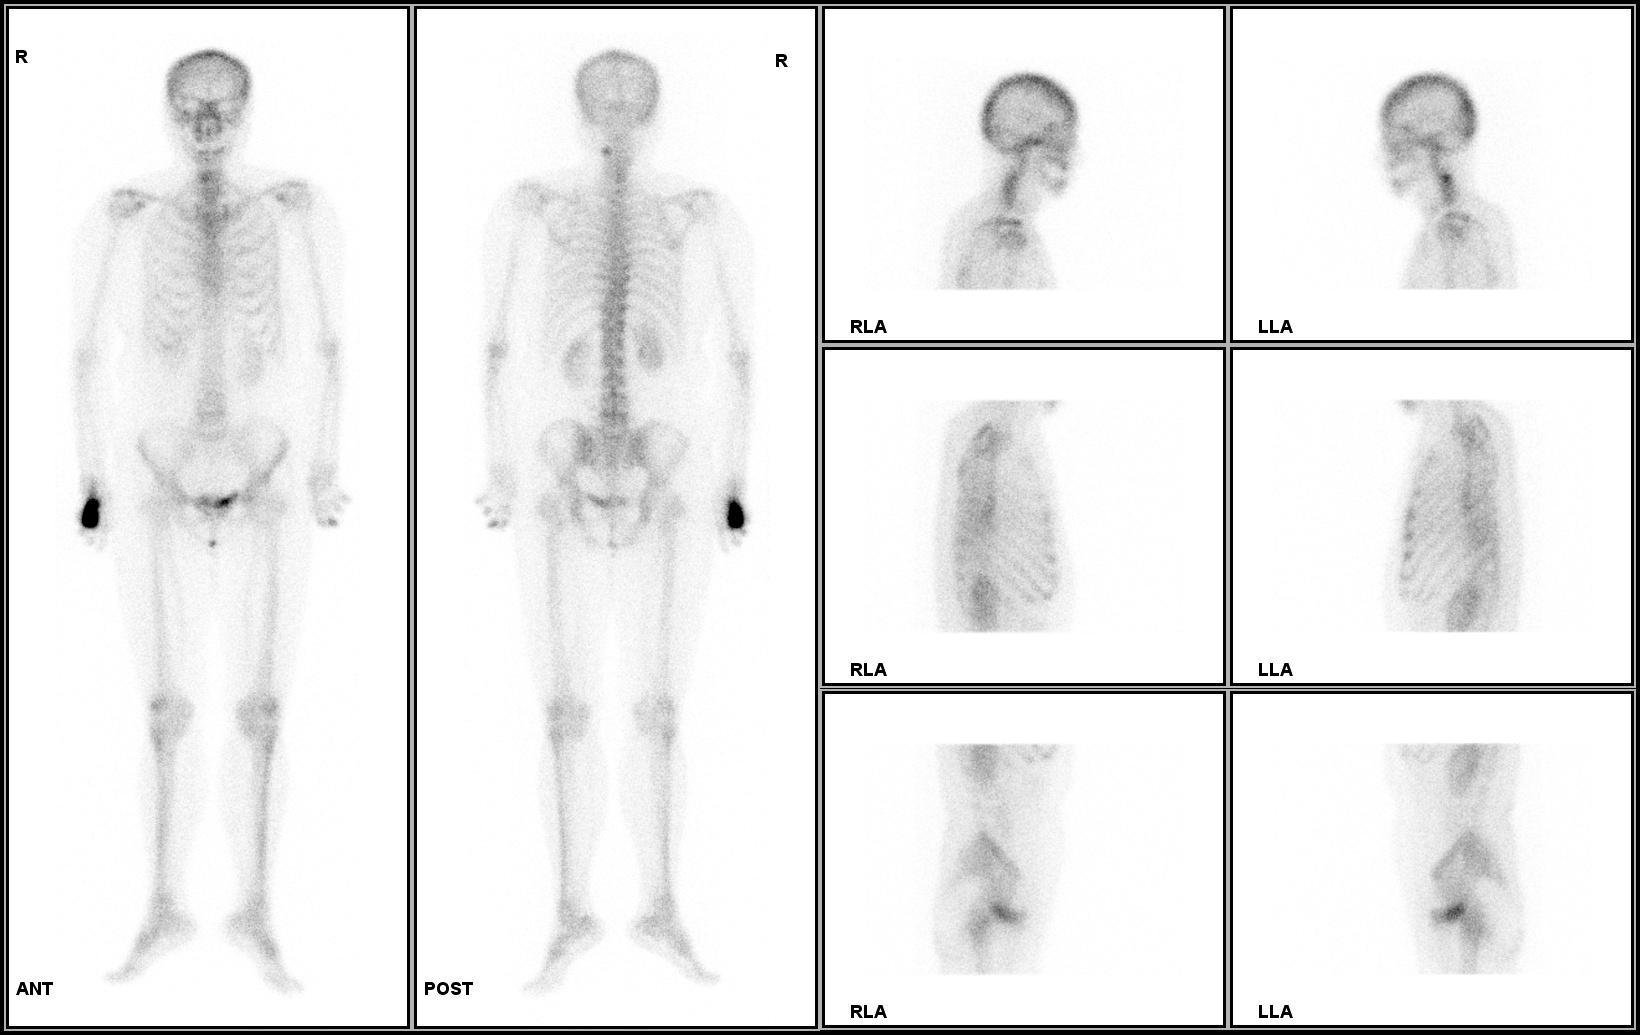person: (8, 9, 815, 1026)
